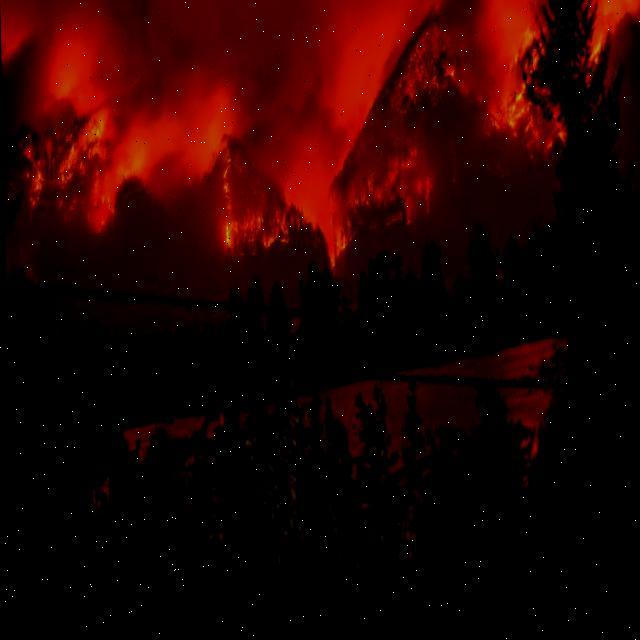Fire: (398, 0, 638, 227), (210, 94, 357, 300), (21, 52, 161, 255)
